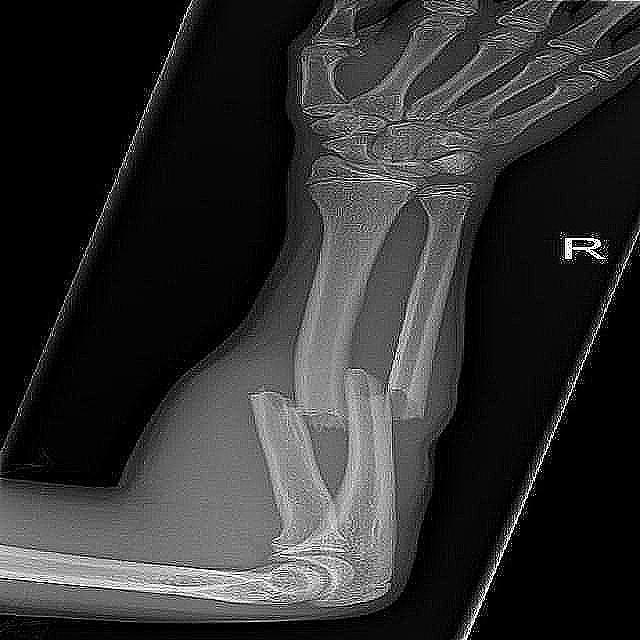bone: (247, 366, 344, 456), (346, 353, 441, 438)
